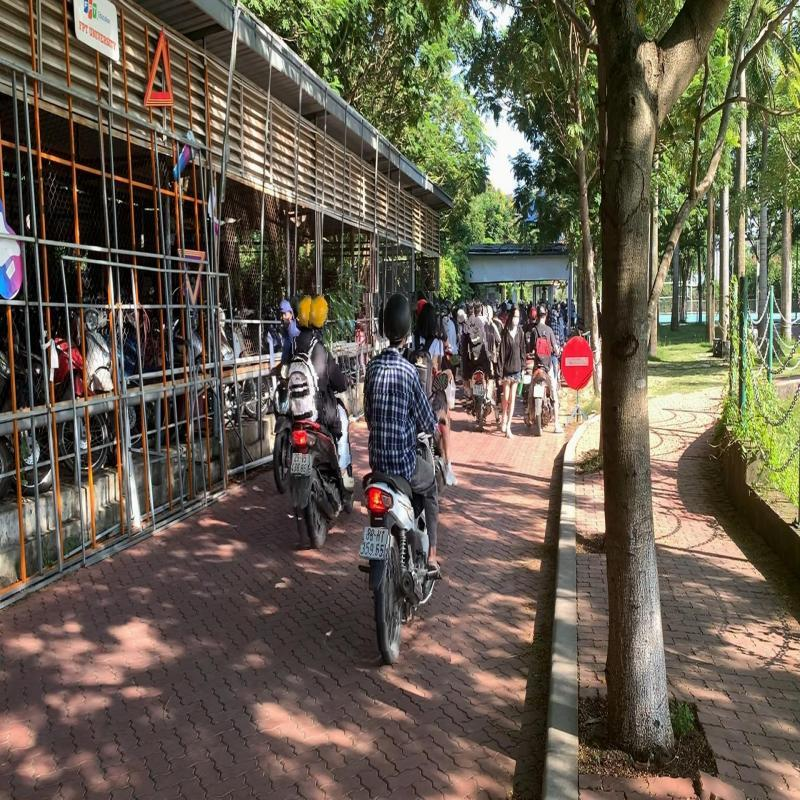helmet: (383, 293, 412, 348), (308, 294, 329, 330)
licenseplate: (360, 526, 390, 560), (292, 453, 310, 476), (473, 384, 482, 396)
motorcyclist: (357, 292, 448, 665), (285, 293, 359, 550), (458, 296, 498, 434)
nohelmet: (473, 296, 482, 316)
